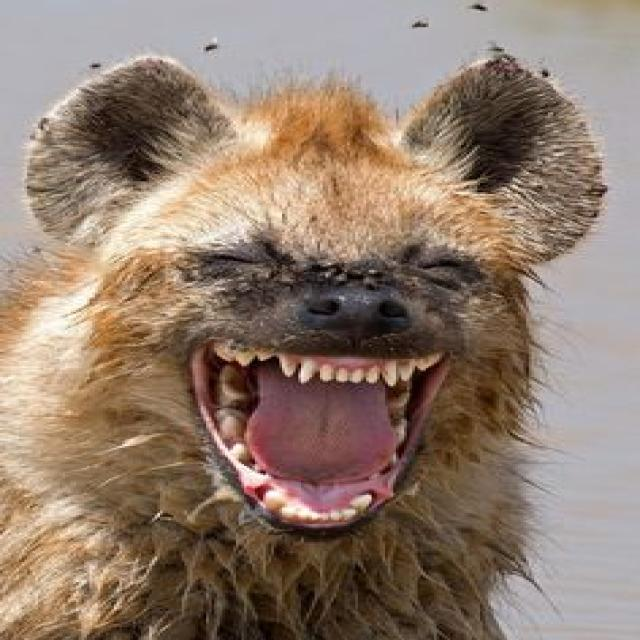Carnivorous: (0, 49, 610, 640)
